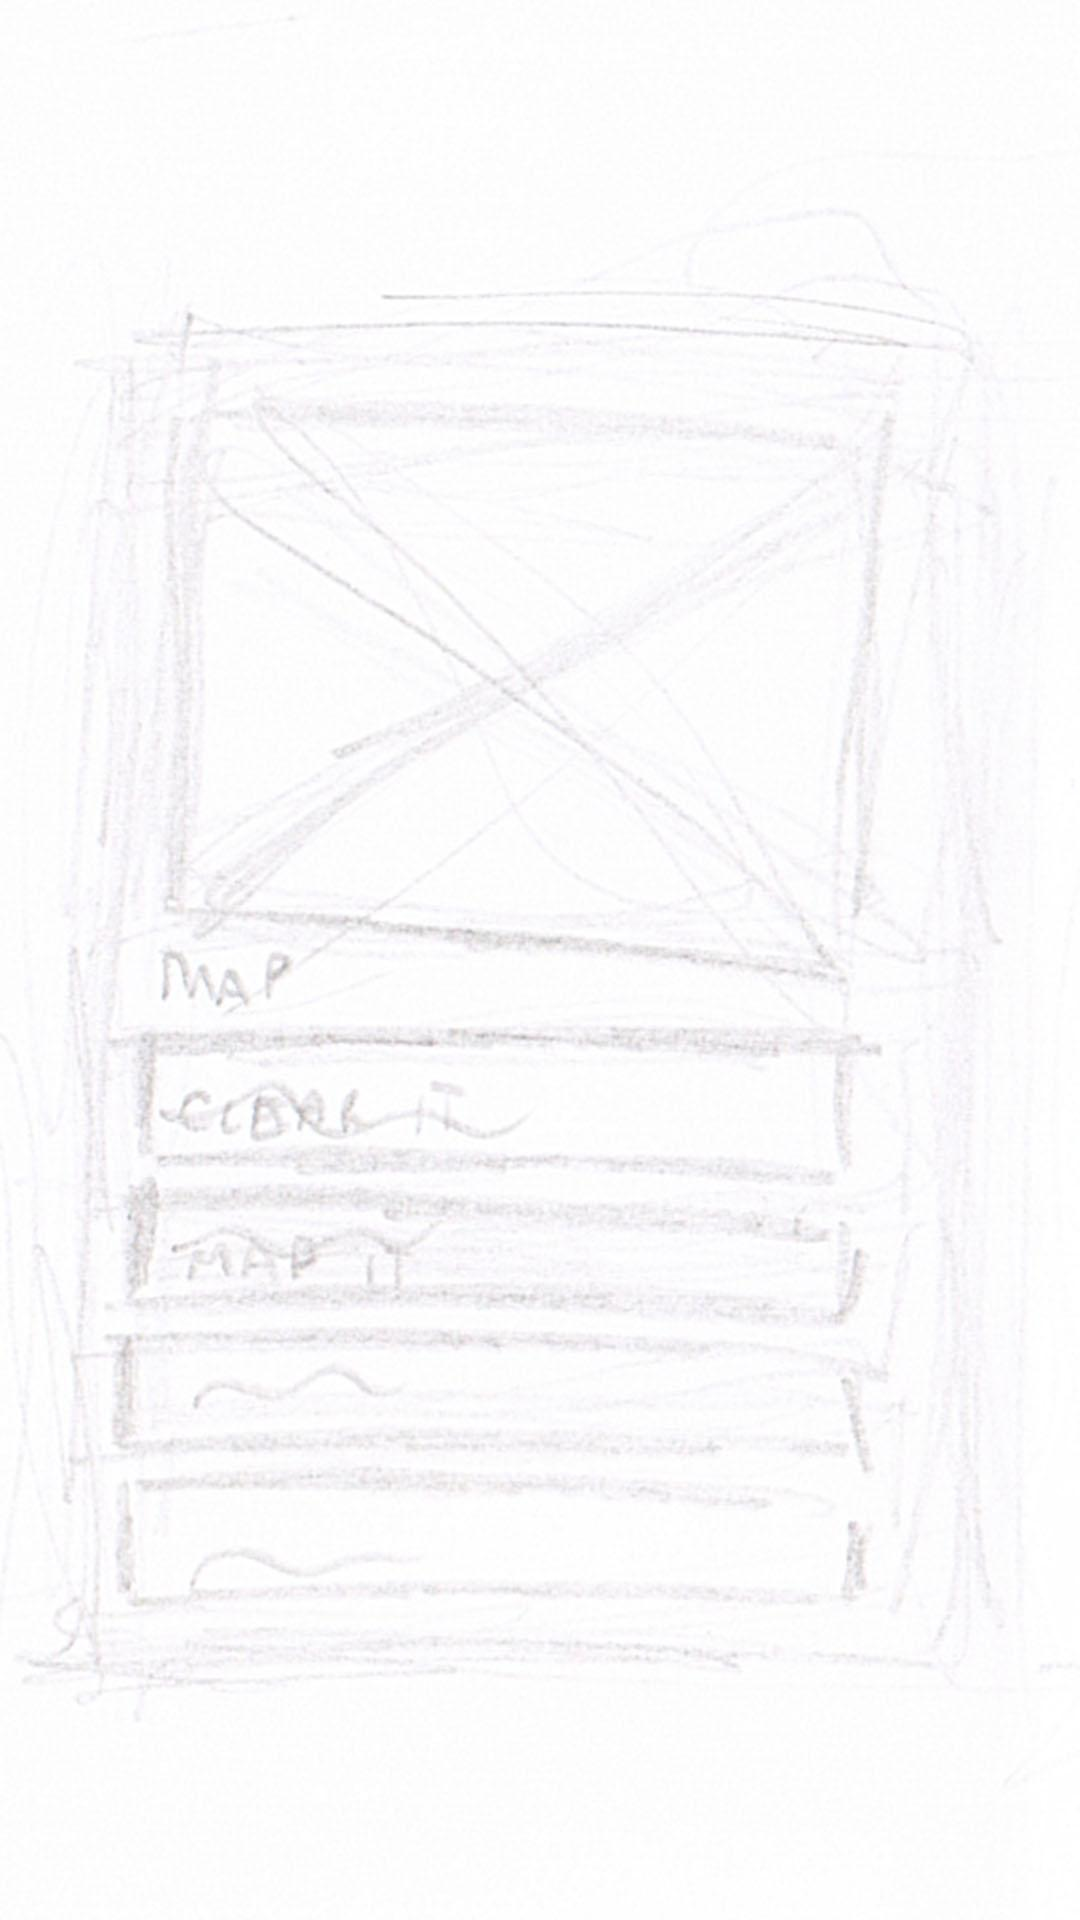Image: (171, 397, 880, 976)
Label: (145, 947, 301, 1013)
Screen: (58, 310, 986, 1684)
TextBox: (145, 1022, 853, 1185), (119, 1336, 878, 1469), (131, 1187, 858, 1324), (119, 1478, 876, 1609)
